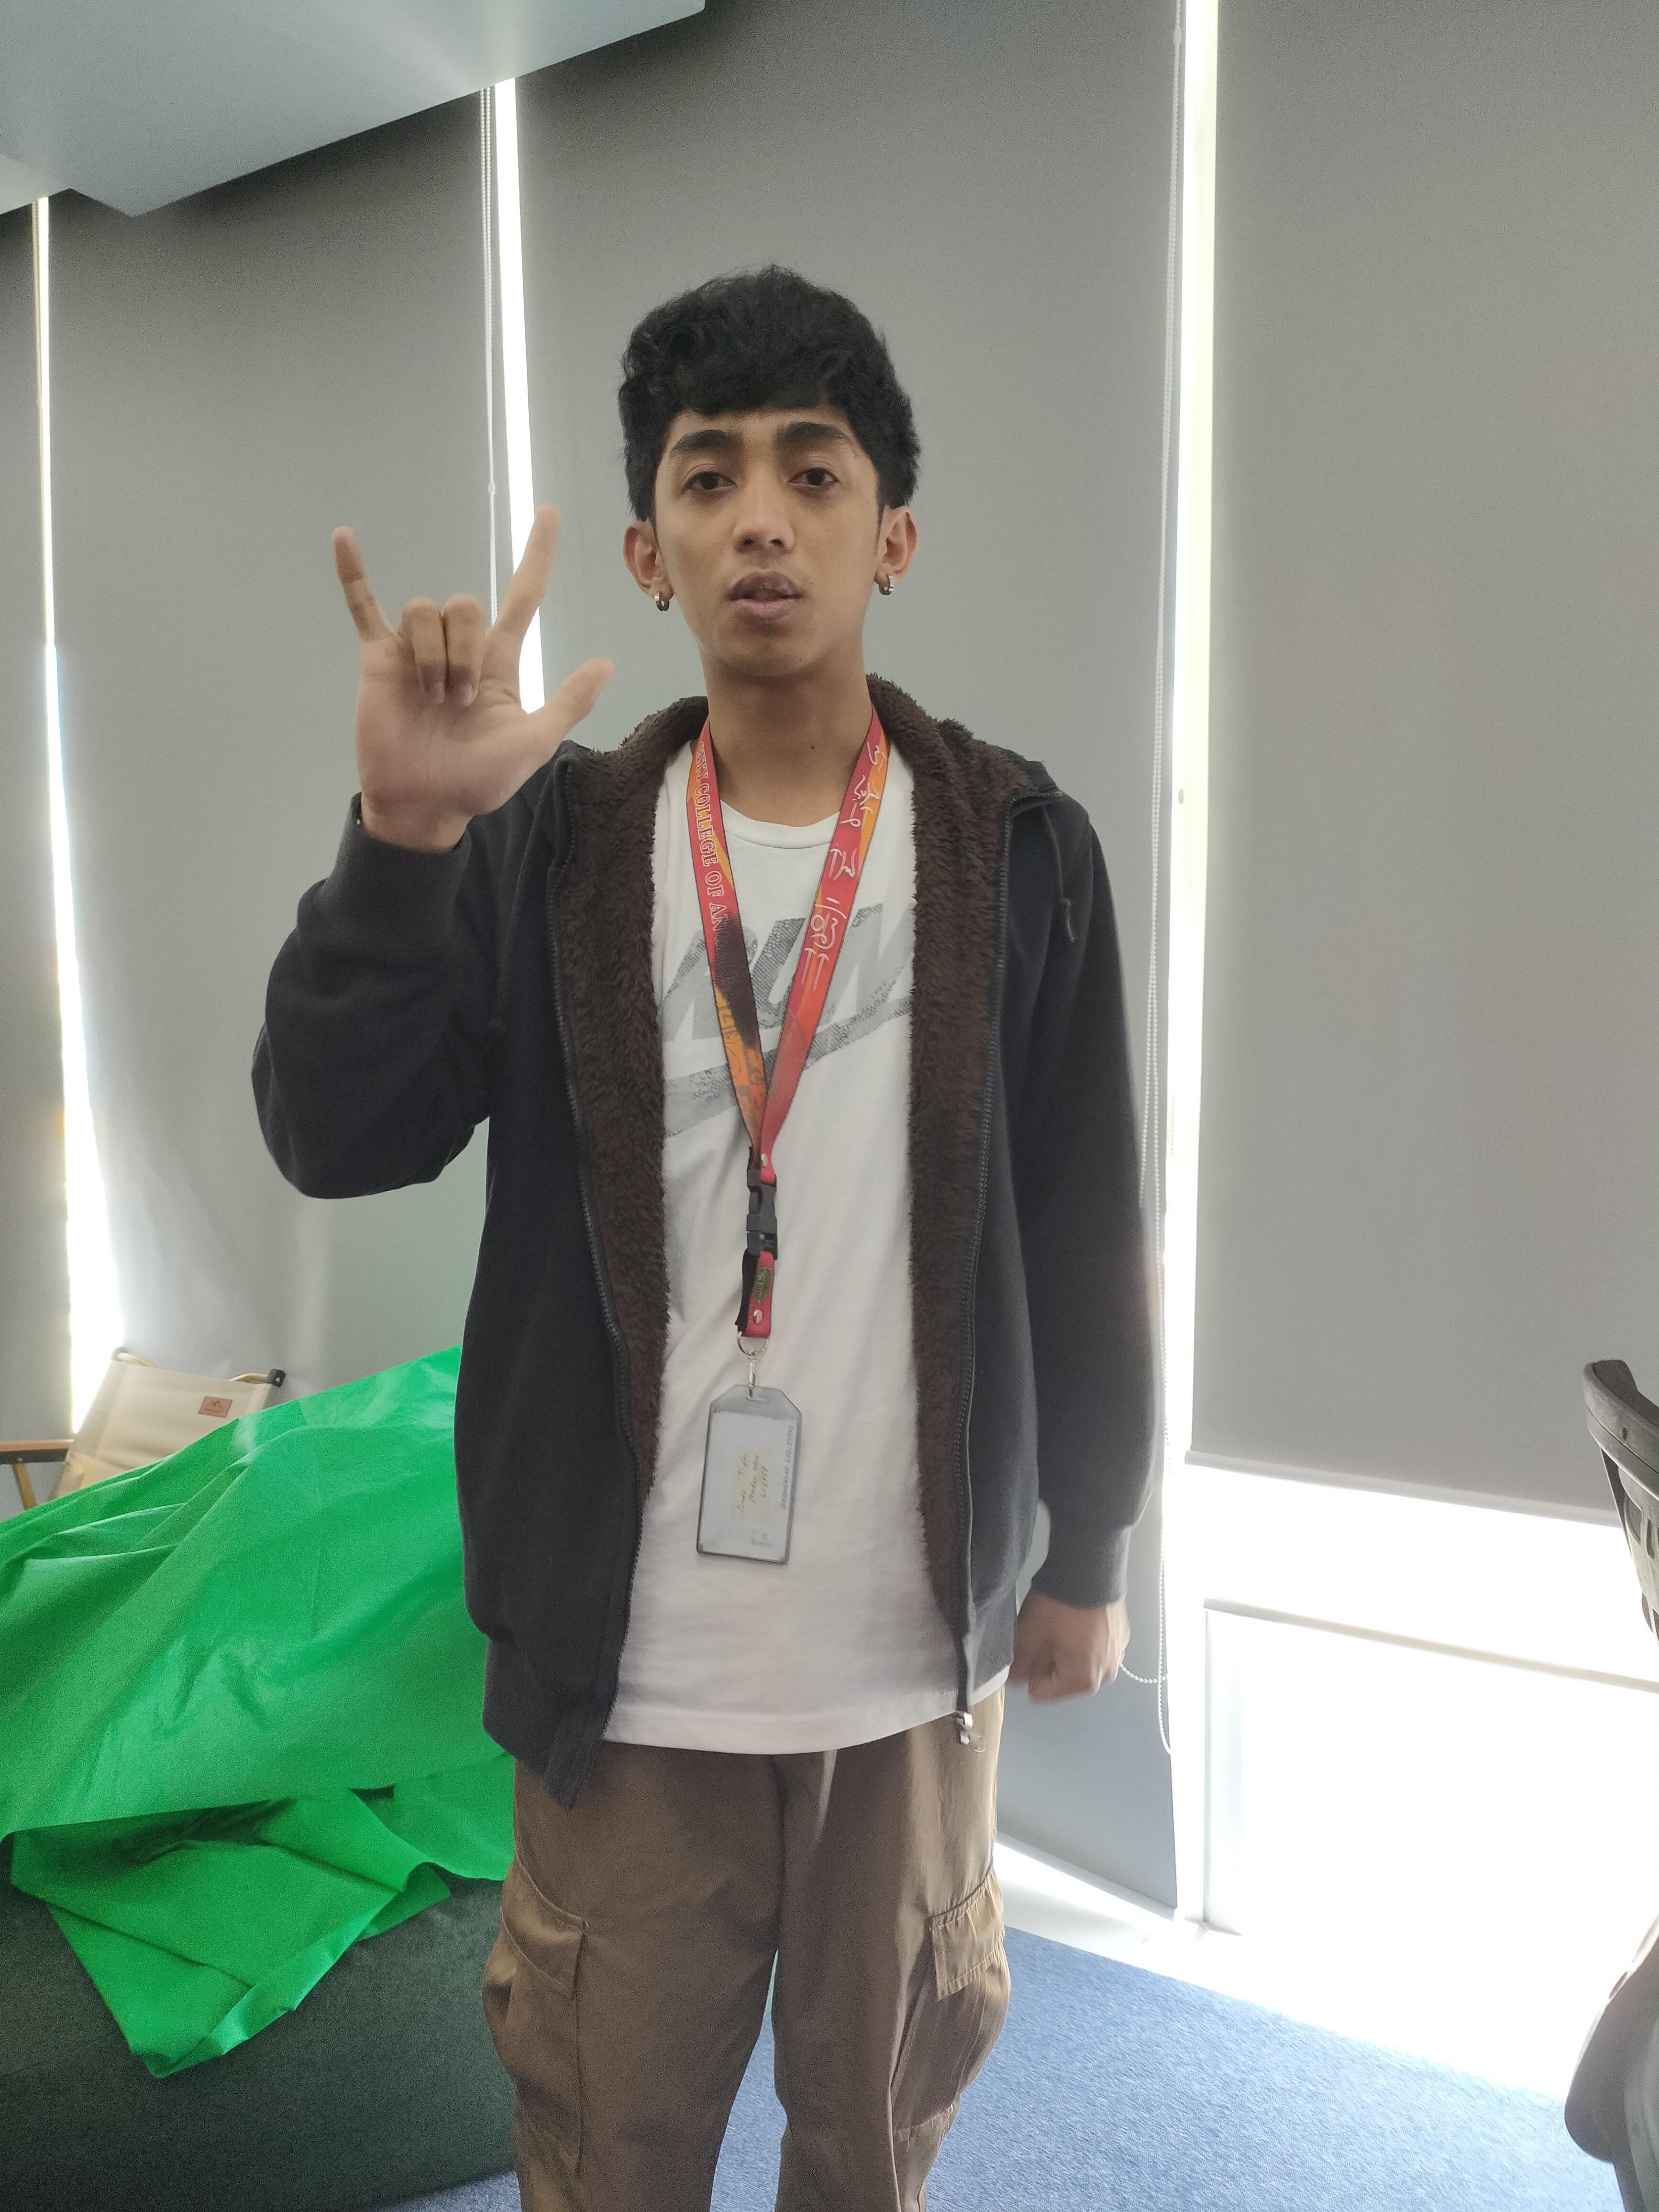Love_you: (282, 507, 631, 806)
